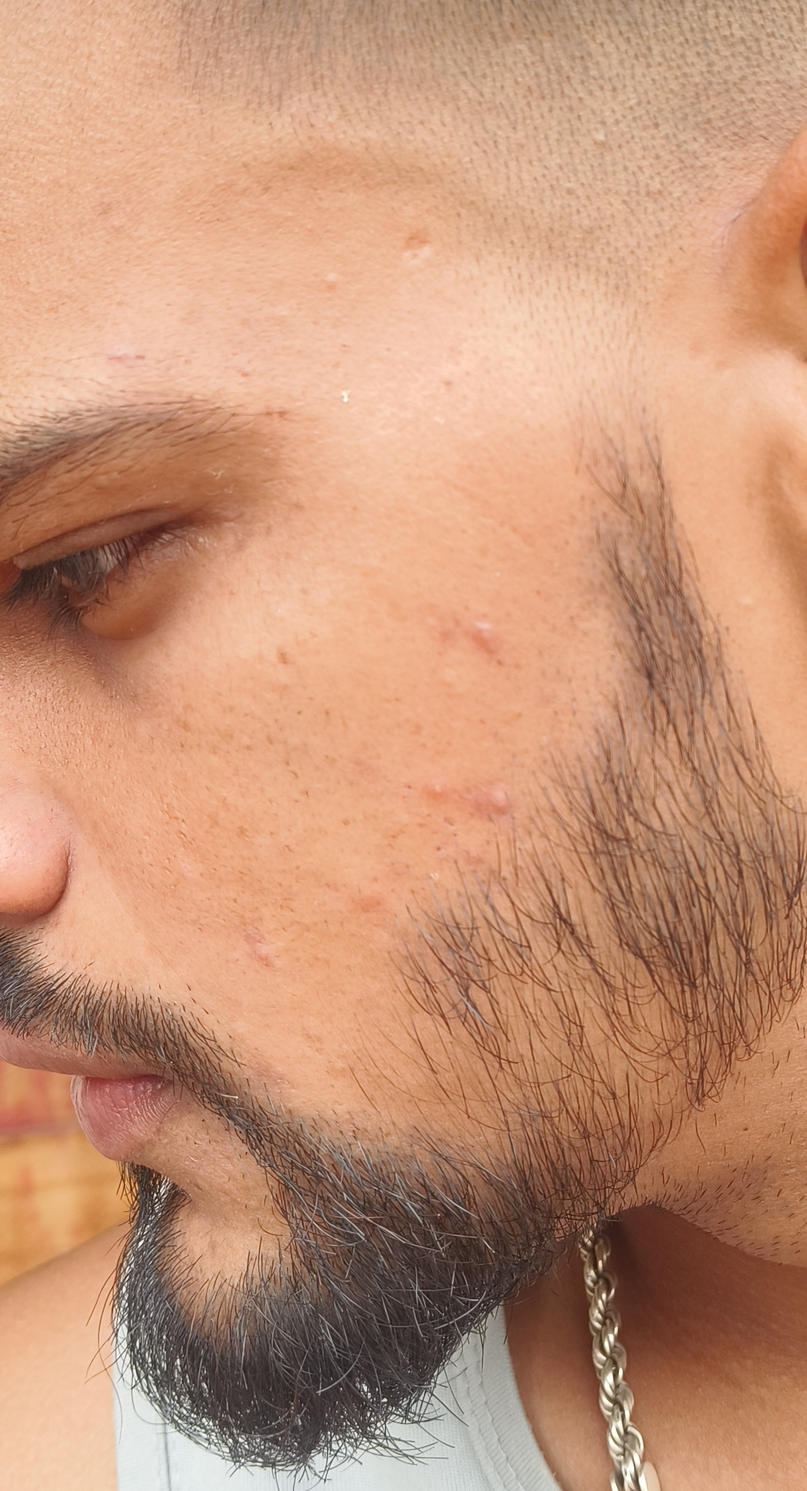papule: (444, 598, 540, 686), (331, 868, 417, 932), (405, 758, 469, 824), (476, 768, 535, 834)
